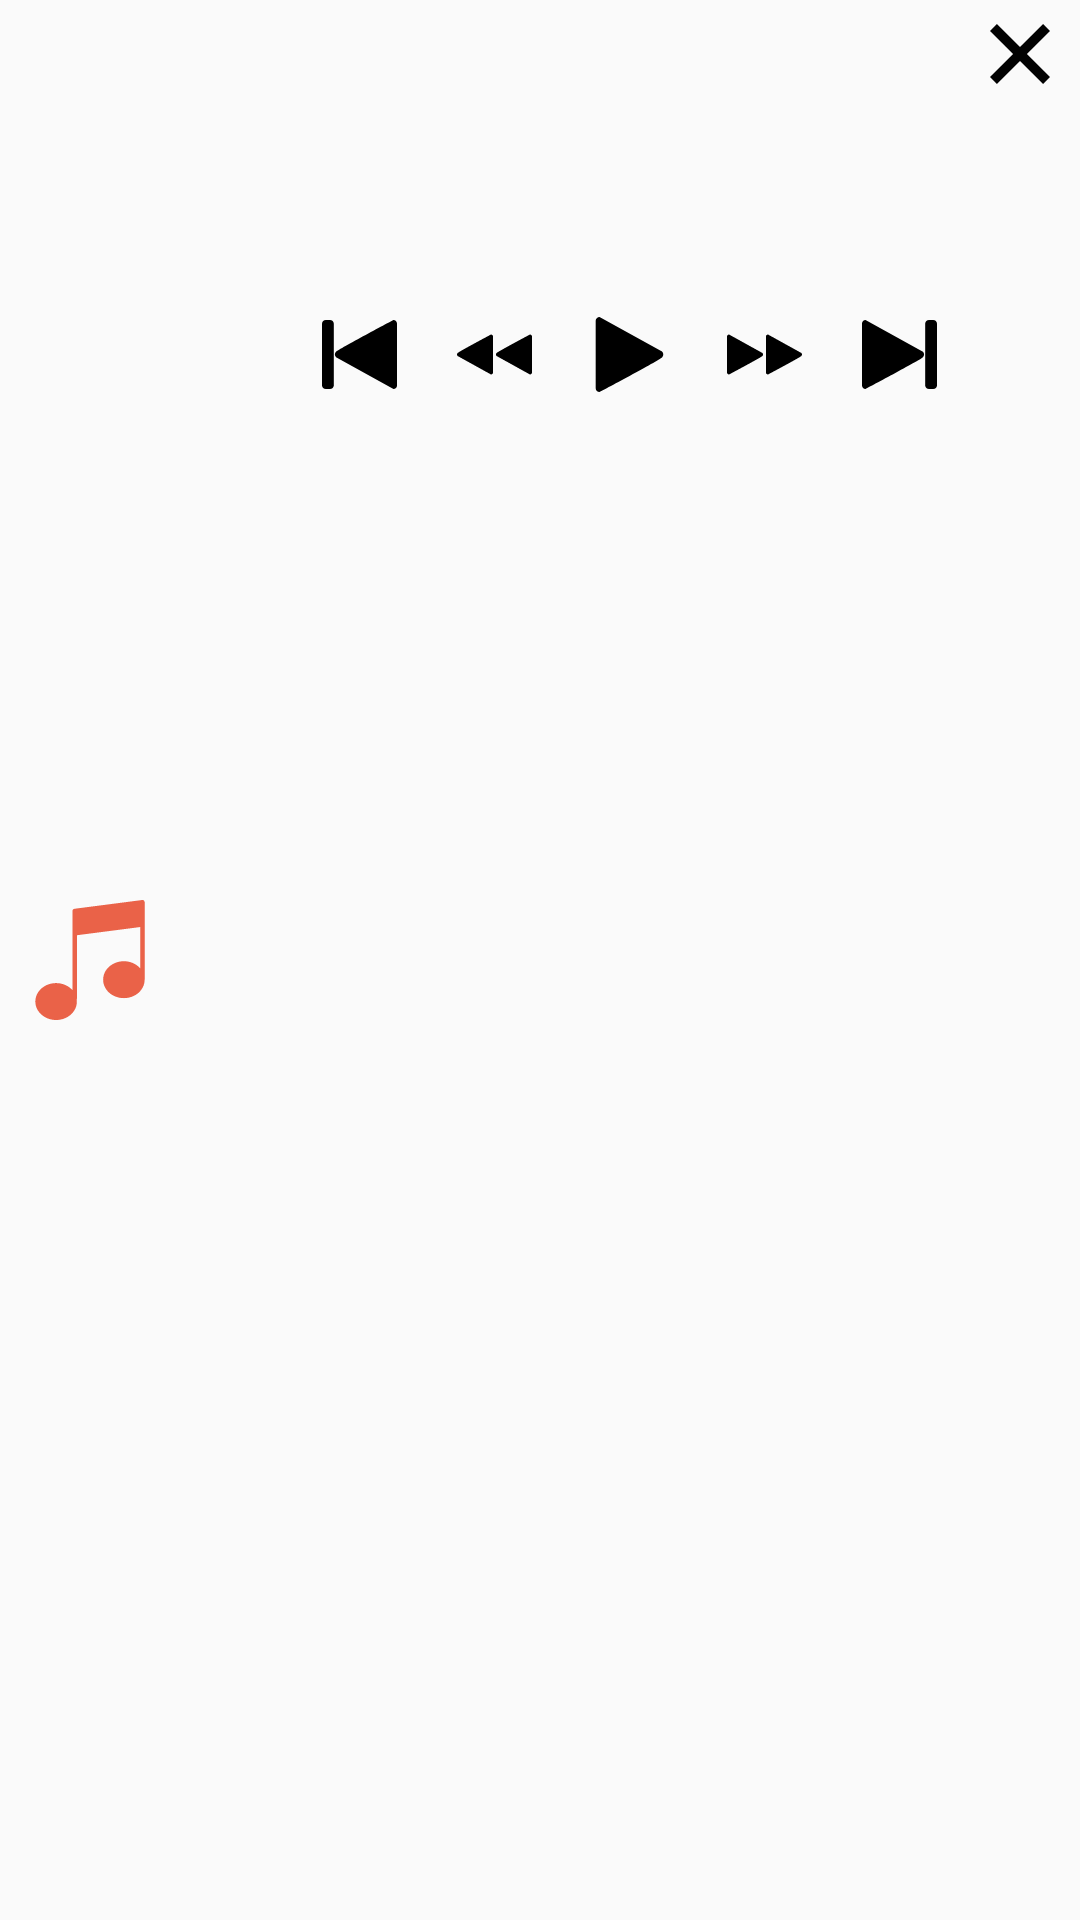

Icons on this 1080x1920 Android screen, each with the point to tap as (x,y):
cancel: (1020,54)
fast forward: (764,354)
music player: (90,960)
next track: (899,354)
play: (629,354)
previous track: (359,354)
rewind: (494,354)
